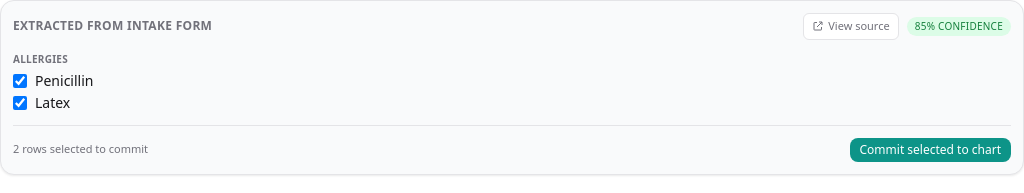
ExtractionPanel — commit to chart › reflects un-checked rows in the commit count
The width and height of the screenshot is (1024, 193).
Note: Uncheck the first allergy.
Click the checkbox labelled "Penicillin".
click(20, 80)  # box [13,74,27,88]
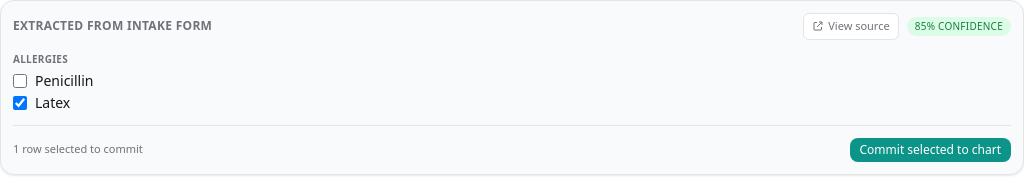
Result: the text "1 row selected" is shown at [13,141,143,156]
